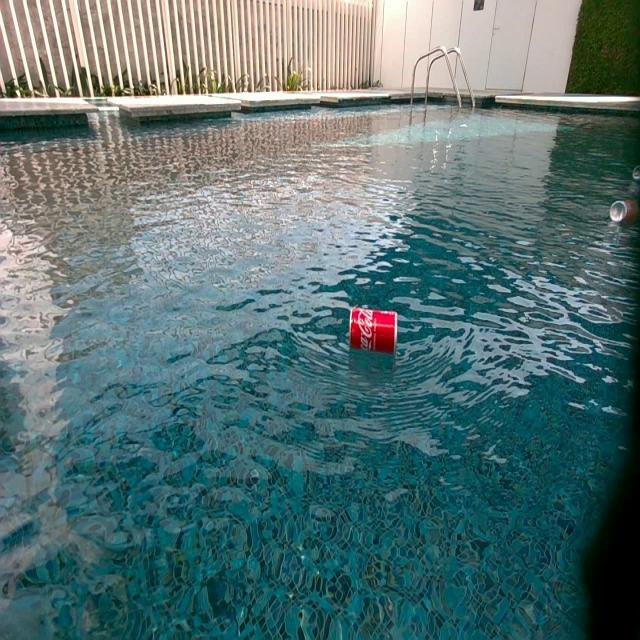Cans: (349, 308, 395, 357), (611, 200, 640, 226), (632, 165, 640, 182)
